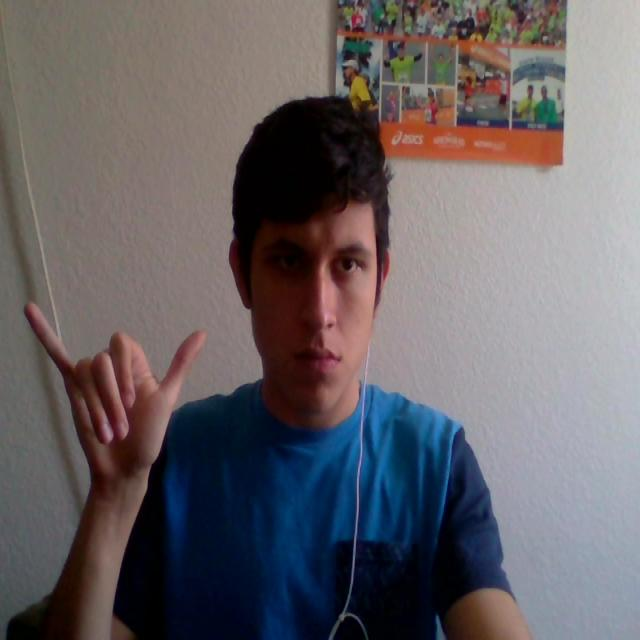Y: (22, 269, 231, 507)
